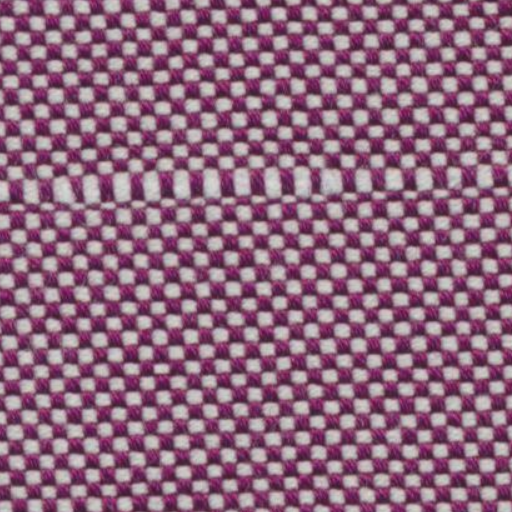DaiSha: (8, 150, 484, 218)
